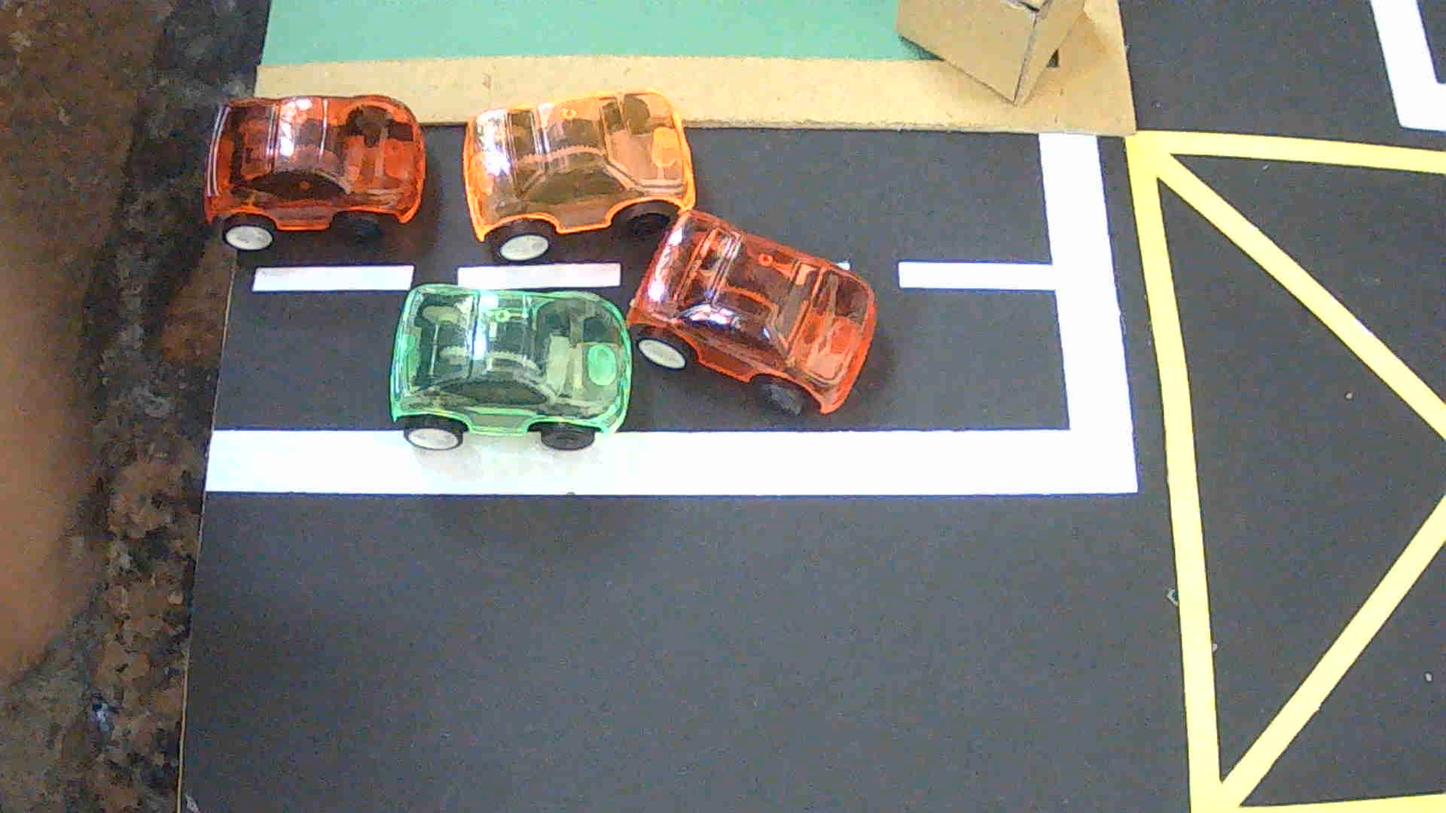Mobil hijau: (389, 285, 632, 450)
Mobil merah: (627, 209, 876, 415), (203, 94, 426, 251)
Mobil orange: (463, 90, 694, 263)
